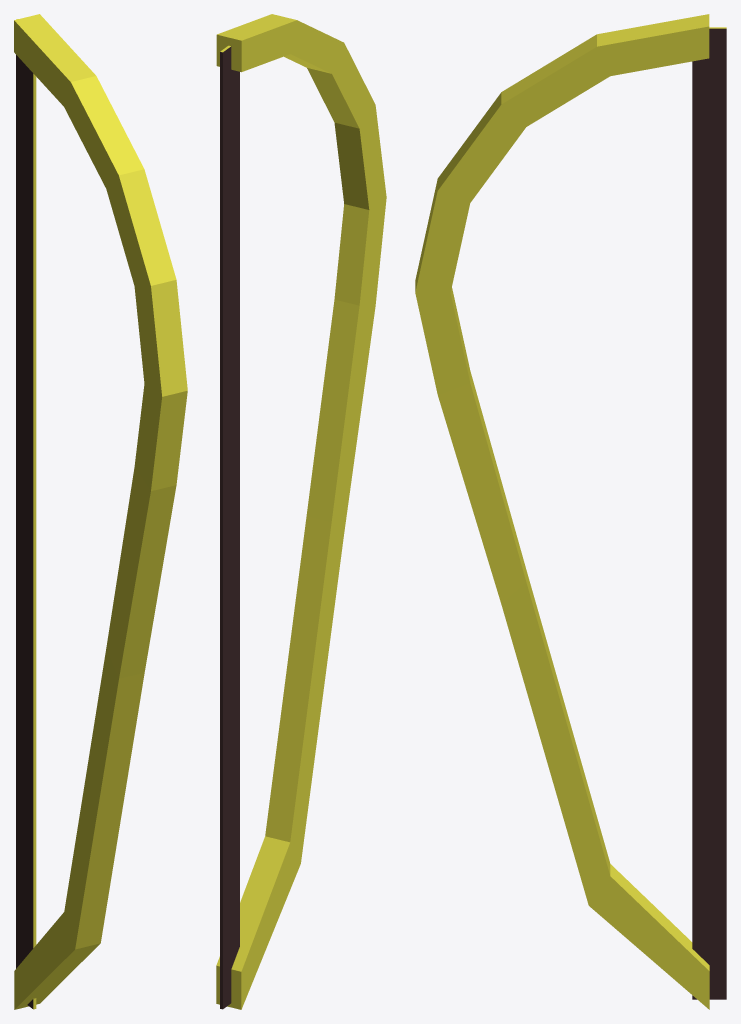
Rendered from Saw1.fbx.
3 views of the same model, side by side, from view 1: azimuth 30°, elevation 25°; view 2: azimuth 150°, elevation 25°; view 3: azimuth 270°, elevation 25° (orthographic). The views are drawn at different scales.
Parts seen in each view (by area): view 1: Circle; view 2: Circle; view 3: Circle.
Boxes of the visible parts, bbox=[...] form: Circle: bbox=[14, 14, 187, 1009]; Circle: bbox=[216, 14, 386, 1009]; Circle: bbox=[415, 14, 726, 1009].
Bounding box in the file's own units: 3.03 × 111 × 31.76.
